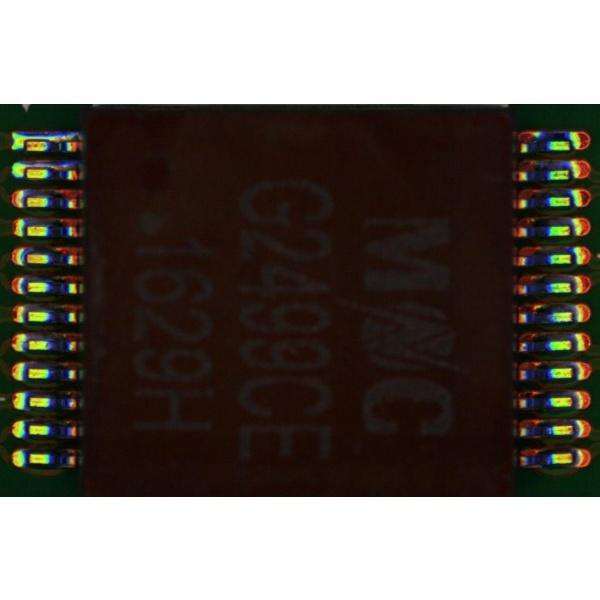Bad_qiaojiao: (27, 132, 80, 140), (26, 160, 77, 167)
